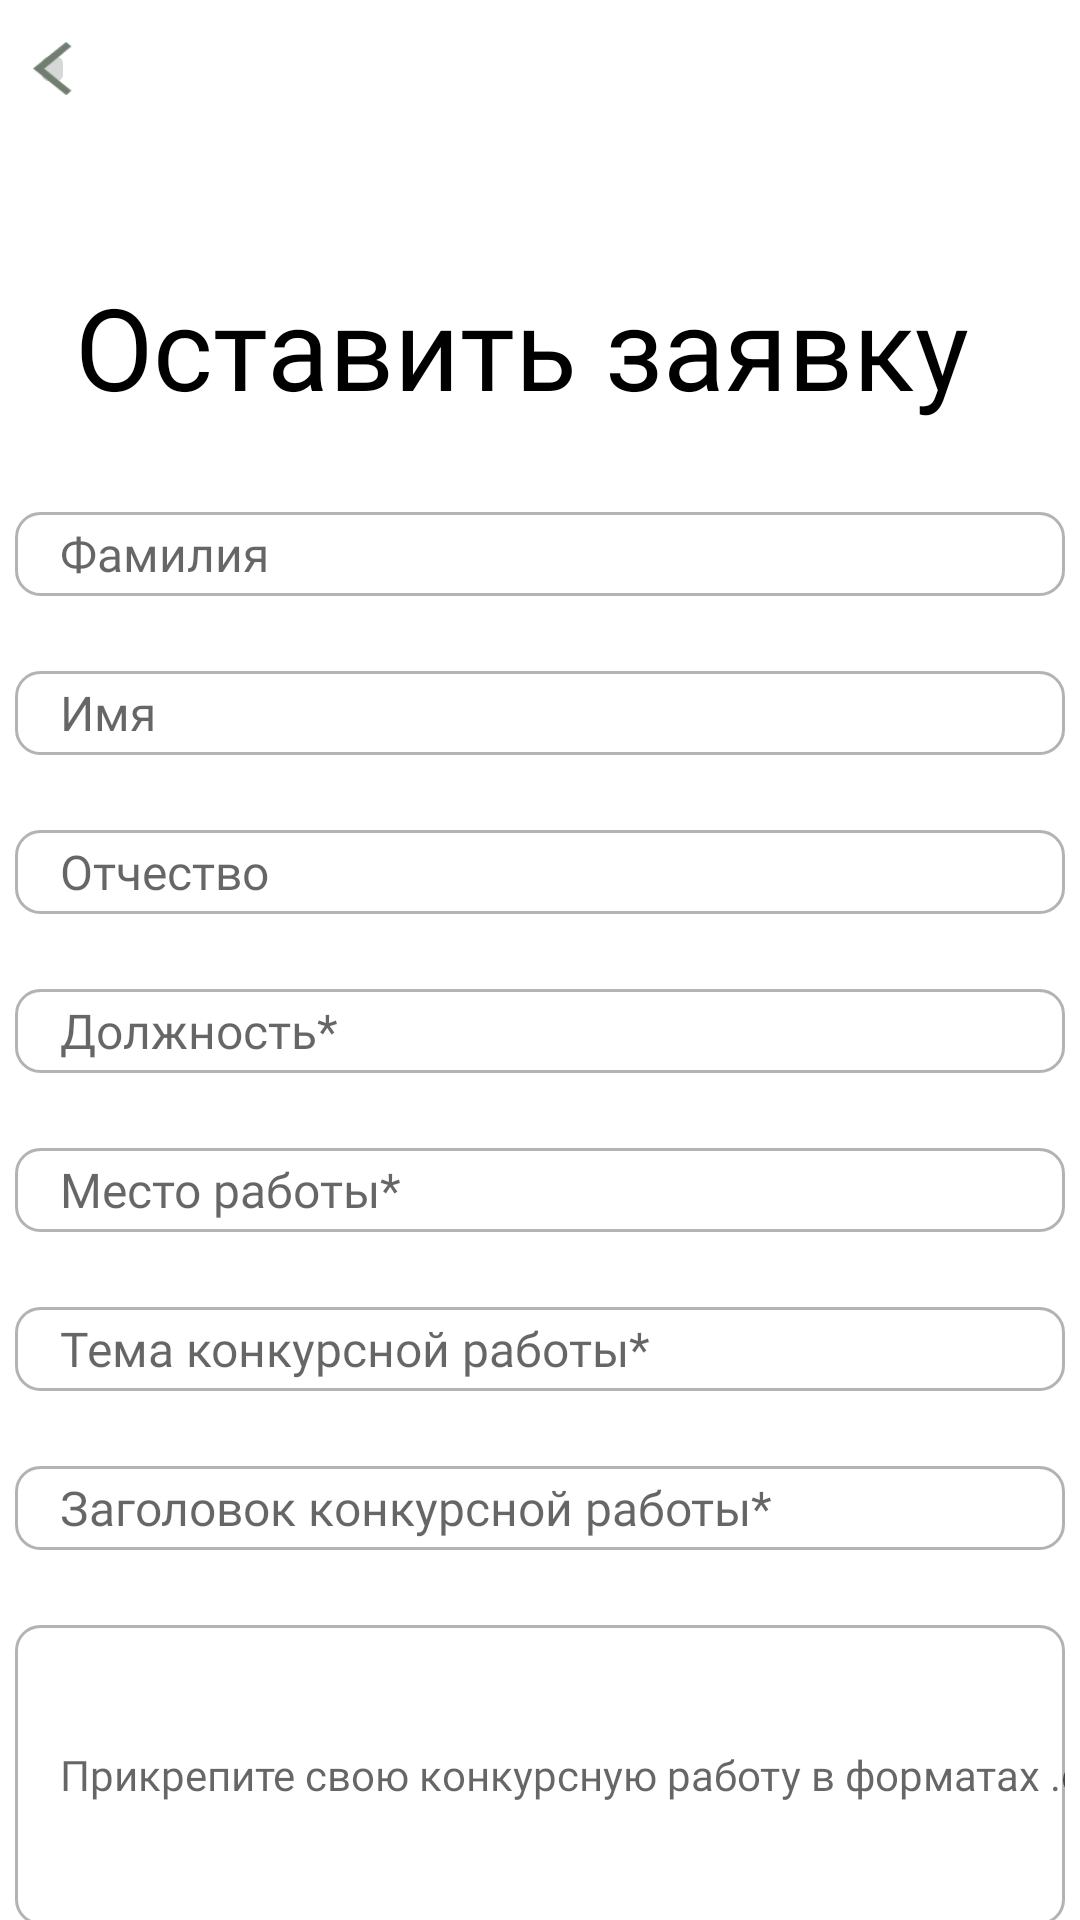

Named icons in this screenshot (1080w x 1920h) and their centers, (x,y):
exit: (52,68)
